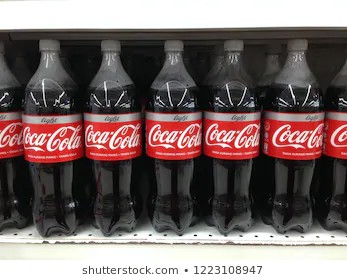coke-bottle-2l: (11, 34, 90, 241), (261, 35, 328, 237), (79, 35, 146, 235), (146, 33, 204, 234), (204, 33, 261, 237)
